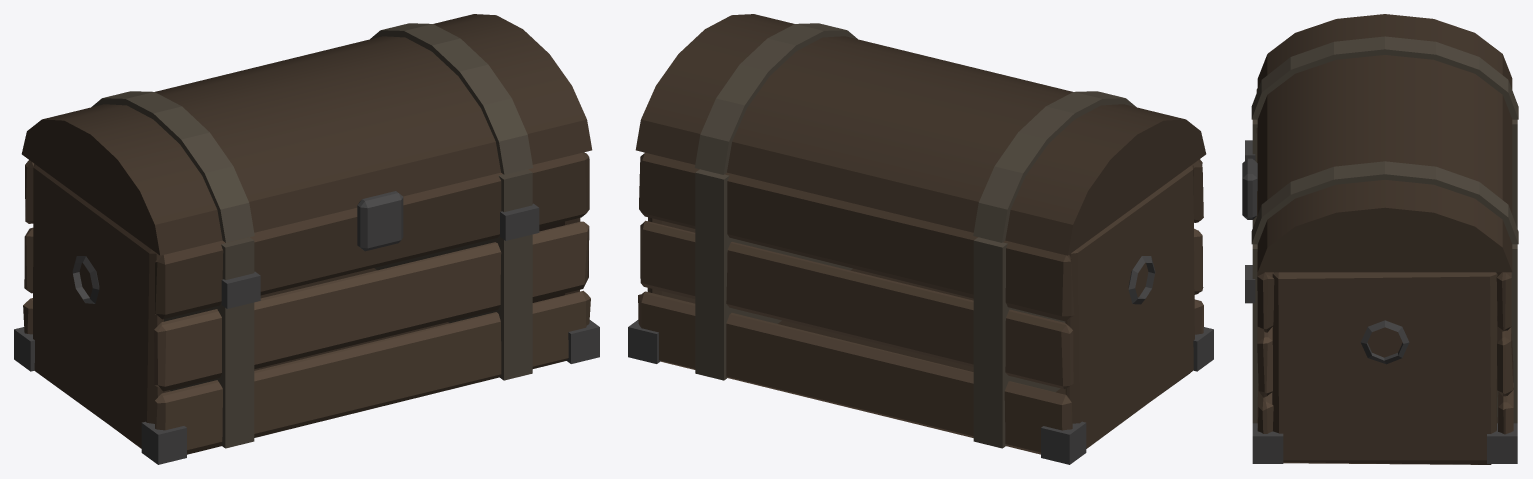
Rendered from trunk.glb.
3 renders of one model, left to right at view 1: azimuth 30°, elevation 25°; view 2: azimuth 150°, elevation 25°; view 3: azimuth 270°, elevation 25°, orthographic. The views are drawn at different scales.
Parts seen in each view (by area): view 1: trunk; view 2: trunk; view 3: trunk.
Boxes of the visible parts, bbox=[...] form: trunk: bbox=[14, 14, 599, 464]; trunk: bbox=[628, 14, 1213, 464]; trunk: bbox=[1242, 14, 1518, 464].
Size of what is drawn, in the model's own units: 0.9339 by 0.5748 by 0.542.
